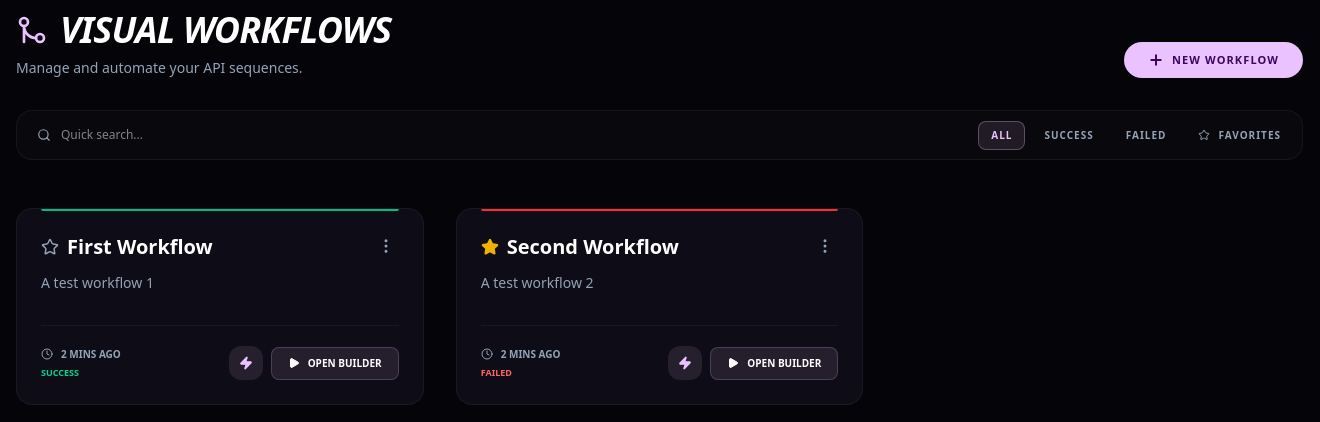
Test: WorkflowList Component › handles search input correctly
The width and height of the screenshot is (1320, 422).
Step 1. Type "Second" into the field with placeholder "Quick search..." → (496, 135), box left=25, top=119, right=966, bottom=151
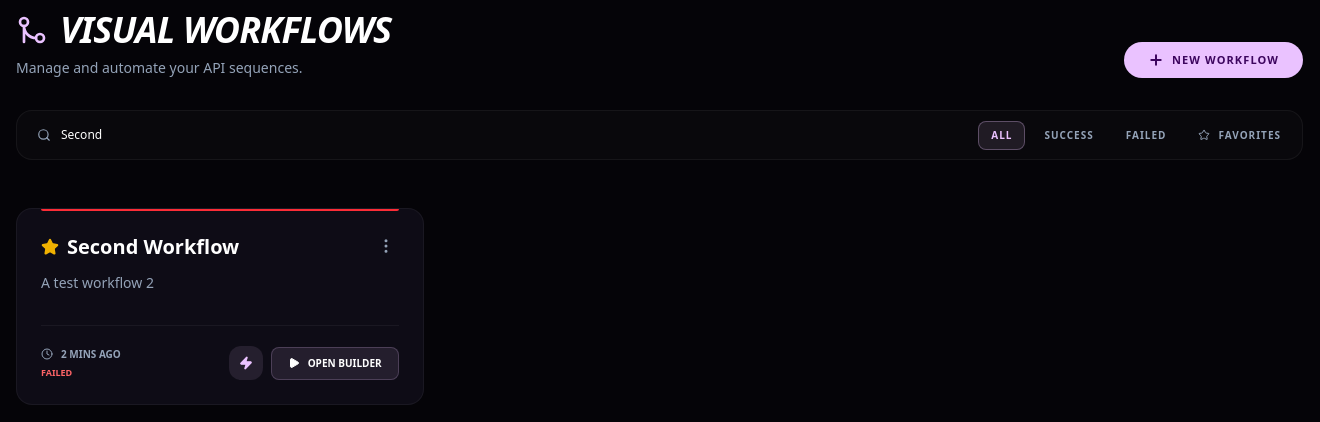
Expected: the heading "Second Workflow" is shown, left=67, top=233, right=239, bottom=261
Result: the heading "First Workflow" is gone
